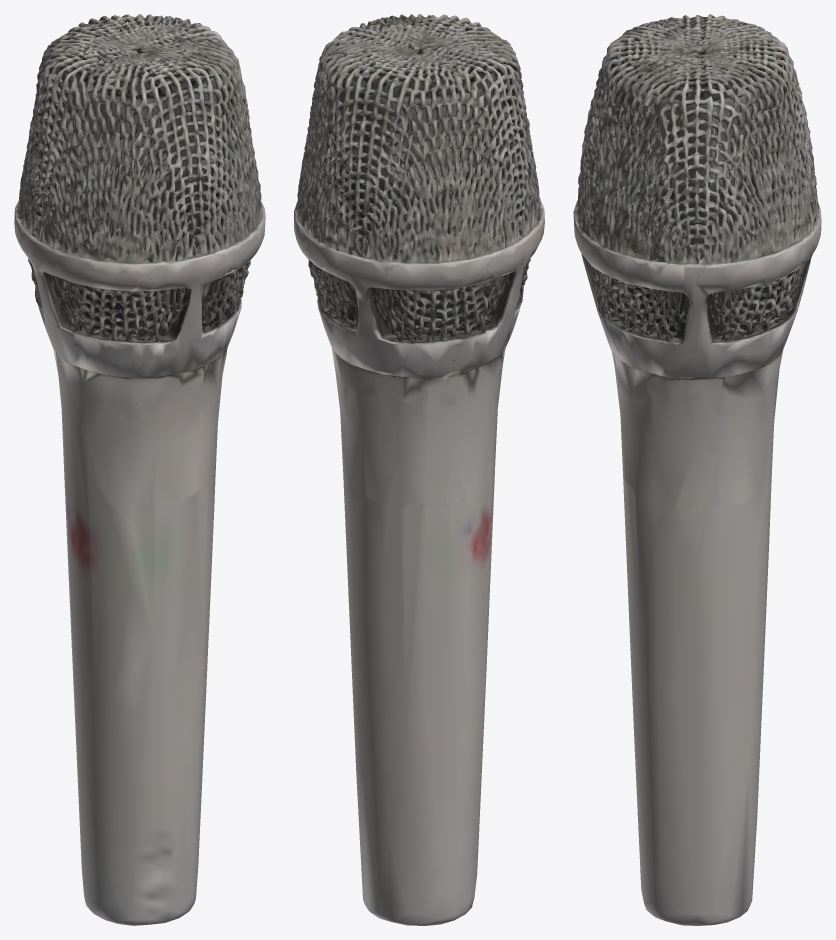
Rendered from Neumann KMS 105.glb.
3 views of the same model, side by side, from view 1: azimuth 30°, elevation 25°; view 2: azimuth 150°, elevation 25°; view 3: azimuth 270°, elevation 25° (orthographic).
Parts seen in each view (by area): view 1: geometry_0; view 2: geometry_0; view 3: geometry_0.
Part boxes in pixels (x1,y1,x2,y2): geometry_0: (14,14,265,925); geometry_0: (294,14,544,925); geometry_0: (573,14,821,925).
Bounding box in the file's own units: 0.0472 × 0.18 × 0.047.
Materials: 1 (1 with a texture image).
